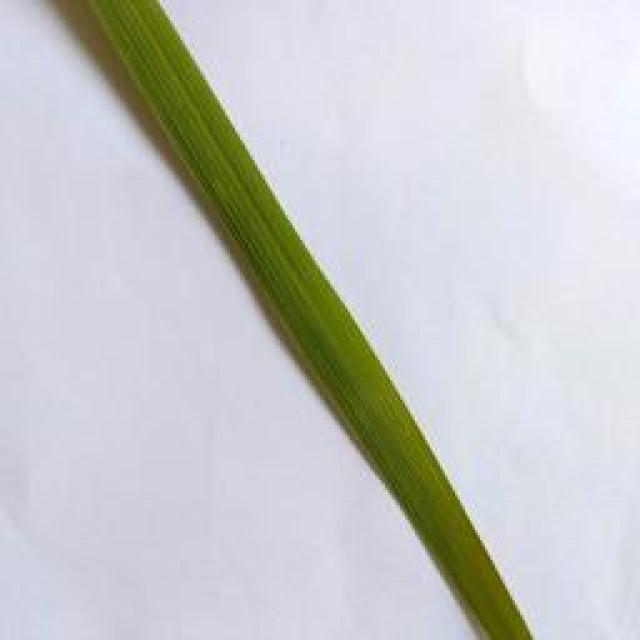Healthy-Plant: (77, 3, 527, 640)
